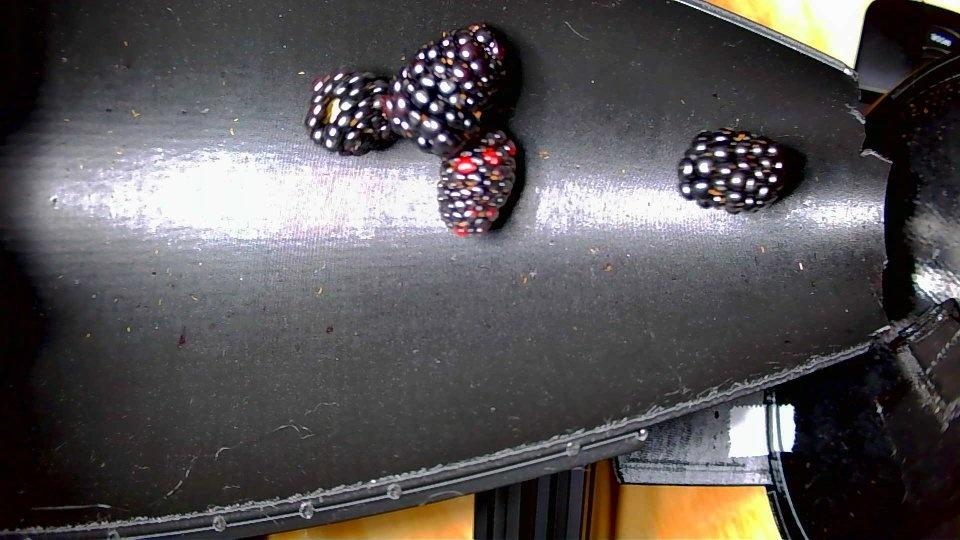berry: (381, 24, 505, 155), (677, 128, 785, 213), (437, 131, 516, 236), (305, 70, 393, 155)
